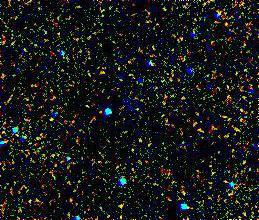star: (106, 184, 136, 214)
